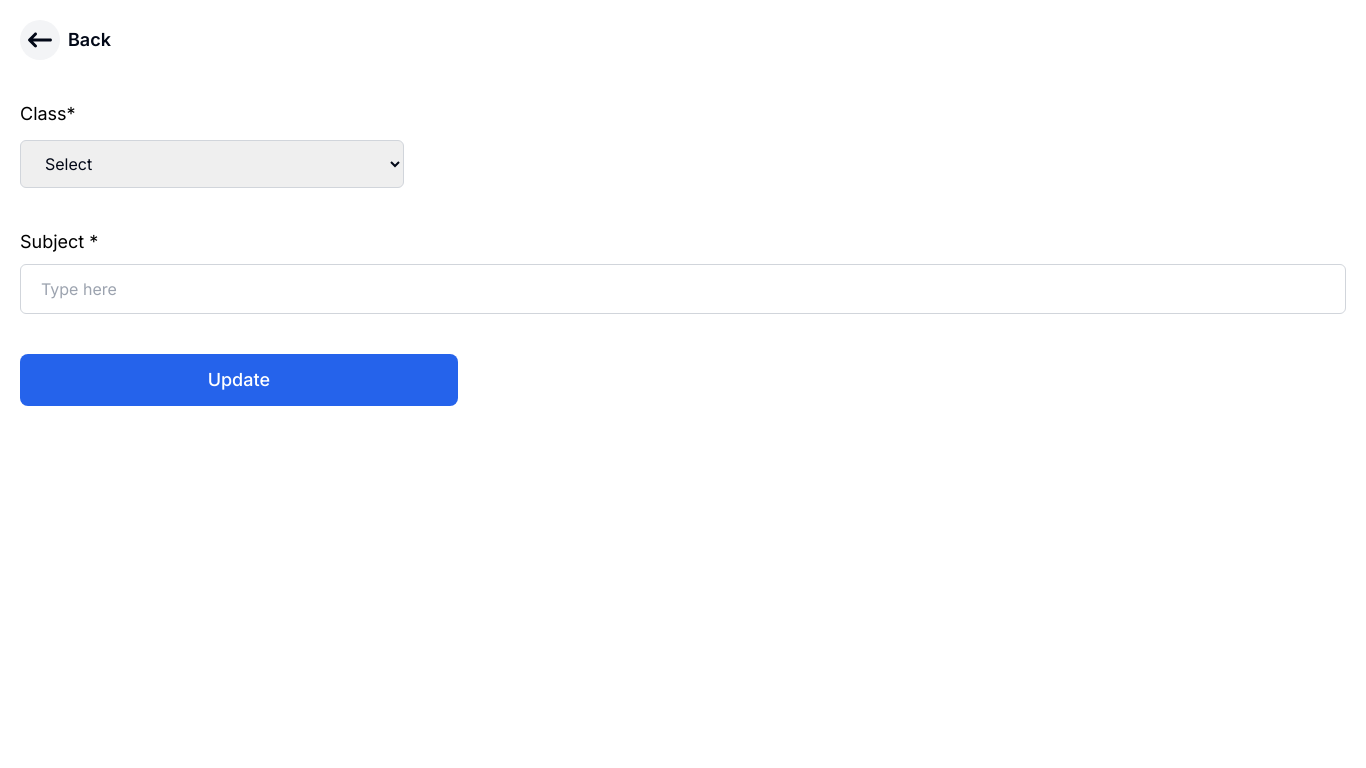
EditSubject Component › displays the Successcard component when the form is successfully submitted
The image size is (1366, 768).
Simulate form submission
Click the button "Update" at (239, 380), box [20,354,458,406]
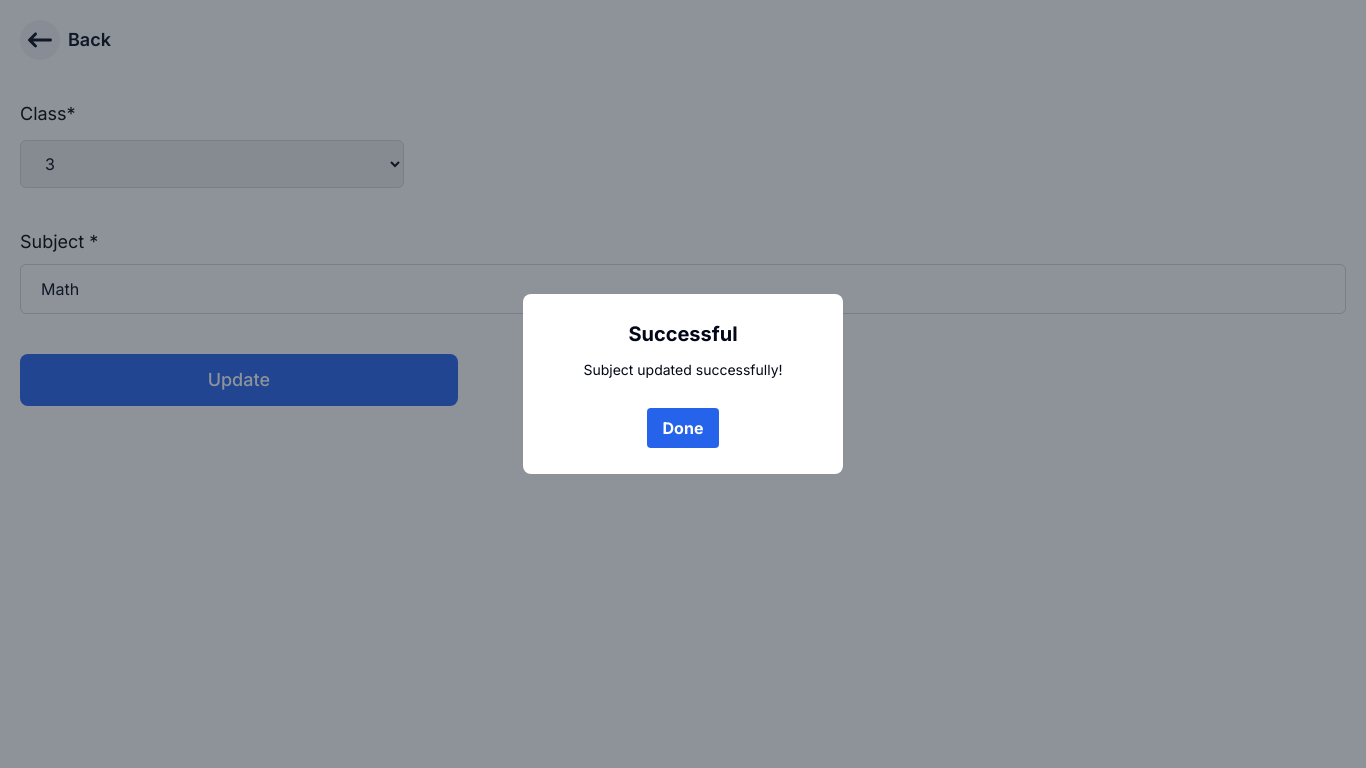
Now the heading "Subject updated successfully!" is shown, box [583,360,782,380]
